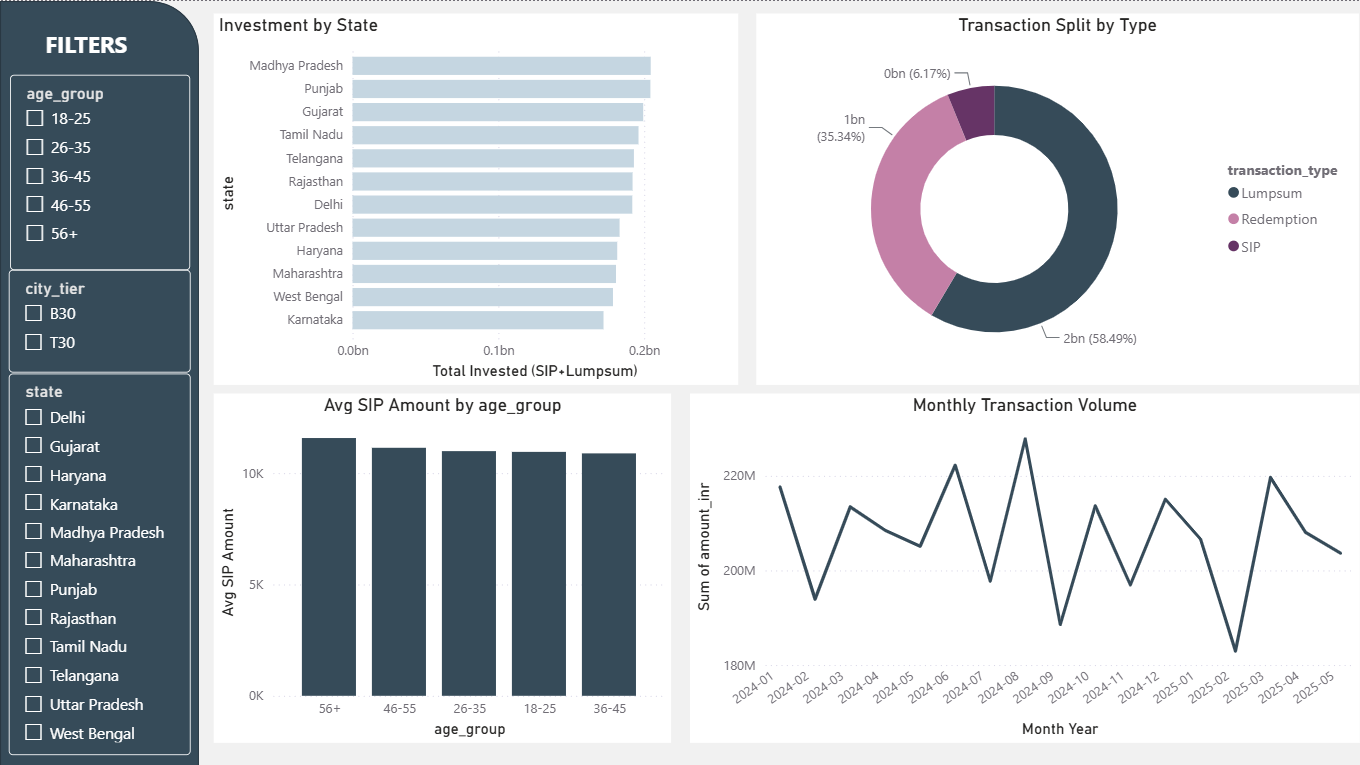

What the dashboard file says about the page in this screenshot:
{"tool":"powerbi","page":{"name":"Investor Analytics","canvas":[1280,720],"ordinal":2},"visuals":[{"type":"shape","box":[0,0,187.2,720.2],"z":0},{"type":"clusteredBarChart","title":"Investment by State","fields":{"Category":["investor_transactions_clean.state"],"Y":["investor_transactions_clean.Total Invested (SIP+Lumpsum)"]},"box":[201,11.5,493.9,349.2],"z":1000},{"type":"donutChart","title":"Transaction Split by Type","fields":{"Category":["investor_transactions_clean.transaction_type"],"Y":["Sum(investor_transactions_clean.amount_inr)"]},"box":[712.2,11.5,567.5,349.2],"z":2000},{"type":"clusteredColumnChart","fields":{"Category":["investor_transactions_clean.age_group"],"Y":["investor_transactions_clean.Avg SIP Amount"]},"box":[201,369.9,430.8,328.5],"z":3000},{"type":"lineChart","title":"Monthly Transaction Volume","fields":{"Y":["Sum(investor_transactions_clean.amount_inr)"],"Category":["investor_transactions_clean.Month Year"]},"box":[649,369.9,630.6,328.5],"z":4000},{"type":"slicer","fields":{"Values":["investor_transactions_clean.state"]},"box":[8.1,350,170.9,359.3],"z":5000},{"type":"slicer","fields":{"Values":["investor_transactions_clean.age_group"]},"box":[9.3,69.8,169.8,183.7],"z":6000},{"type":"slicer","fields":{"Values":["investor_transactions_clean.city_tier"]},"box":[8.1,253.5,170.9,96.5],"z":7000},{"type":"textbox","box":[37.2,20.9,114,46.5],"z":8000}]}

Visuals, with their boxes in screenshot pixels (x1, y1, x2, y2), scaled from the page's 1280x720 canvas onto the 1360x765 screenshot:
shape: 0,0,199,764
"Investment by State" clusteredBarChart: 214,12,738,383
"Transaction Split by Type" donutChart: 757,12,1359,383
clusteredColumnChart - investor_transactions_clean.age_group x investor_transactions_clean.Avg SIP Amount: 214,393,671,742
"Monthly Transaction Volume" lineChart: 690,393,1359,742
slicer - investor_transactions_clean.state: 9,372,190,754
slicer - investor_transactions_clean.age_group: 10,74,190,269
slicer - investor_transactions_clean.city_tier: 9,269,190,372
textbox: 40,22,161,72
